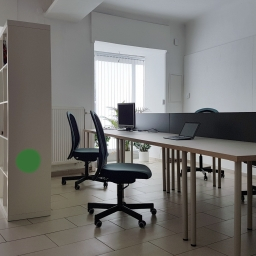focus: (11, 144, 44, 175)
